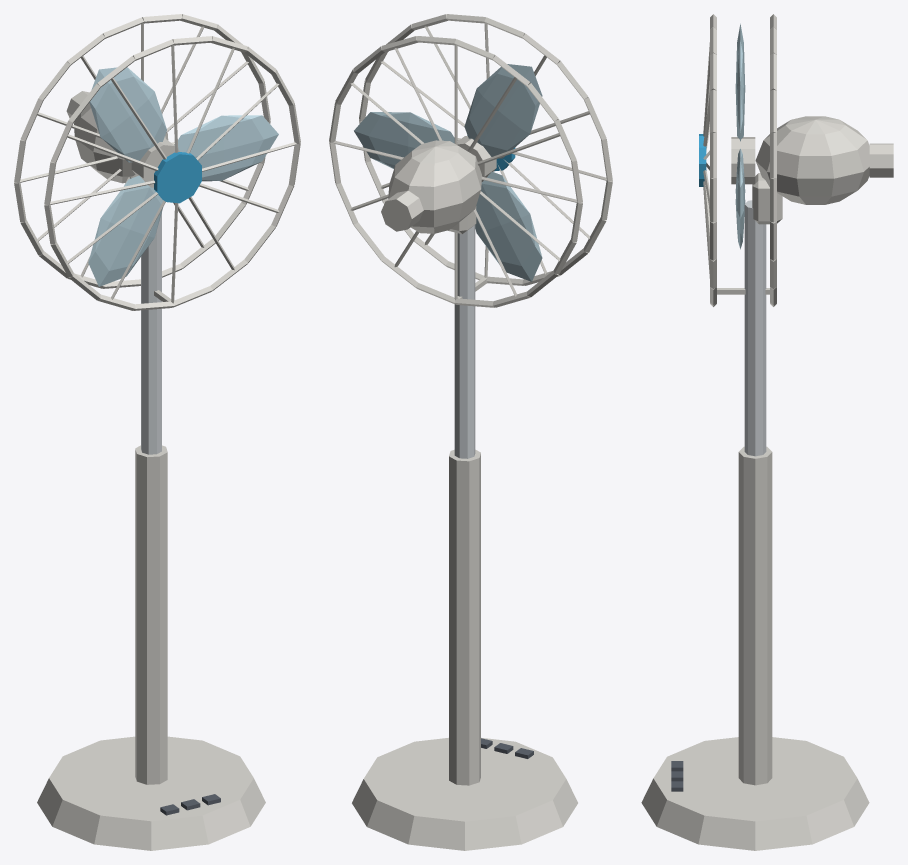
The model's file is stand_fan.glb.
3 views of the same model, side by side, from view 1: azimuth 30°, elevation 25°; view 2: azimuth 150°, elevation 25°; view 3: azimuth 270°, elevation 25° (orthographic).
Visible parts, largest first — view 1: FanBody, FanBlades; view 2: FanBody, FanBlades; view 3: FanBody, FanBlades.
Part boxes in pixels (x1,y1,x2,y2): FanBody: [14, 14, 300, 850]; FanBlades: [88, 67, 278, 286]; FanBody: [329, 14, 612, 850]; FanBlades: [354, 64, 542, 281]; FanBody: [641, 14, 893, 850]; FanBlades: [731, 23, 755, 249].
Size of the model in its own units: 0.4919 by 1.43 by 0.42.
